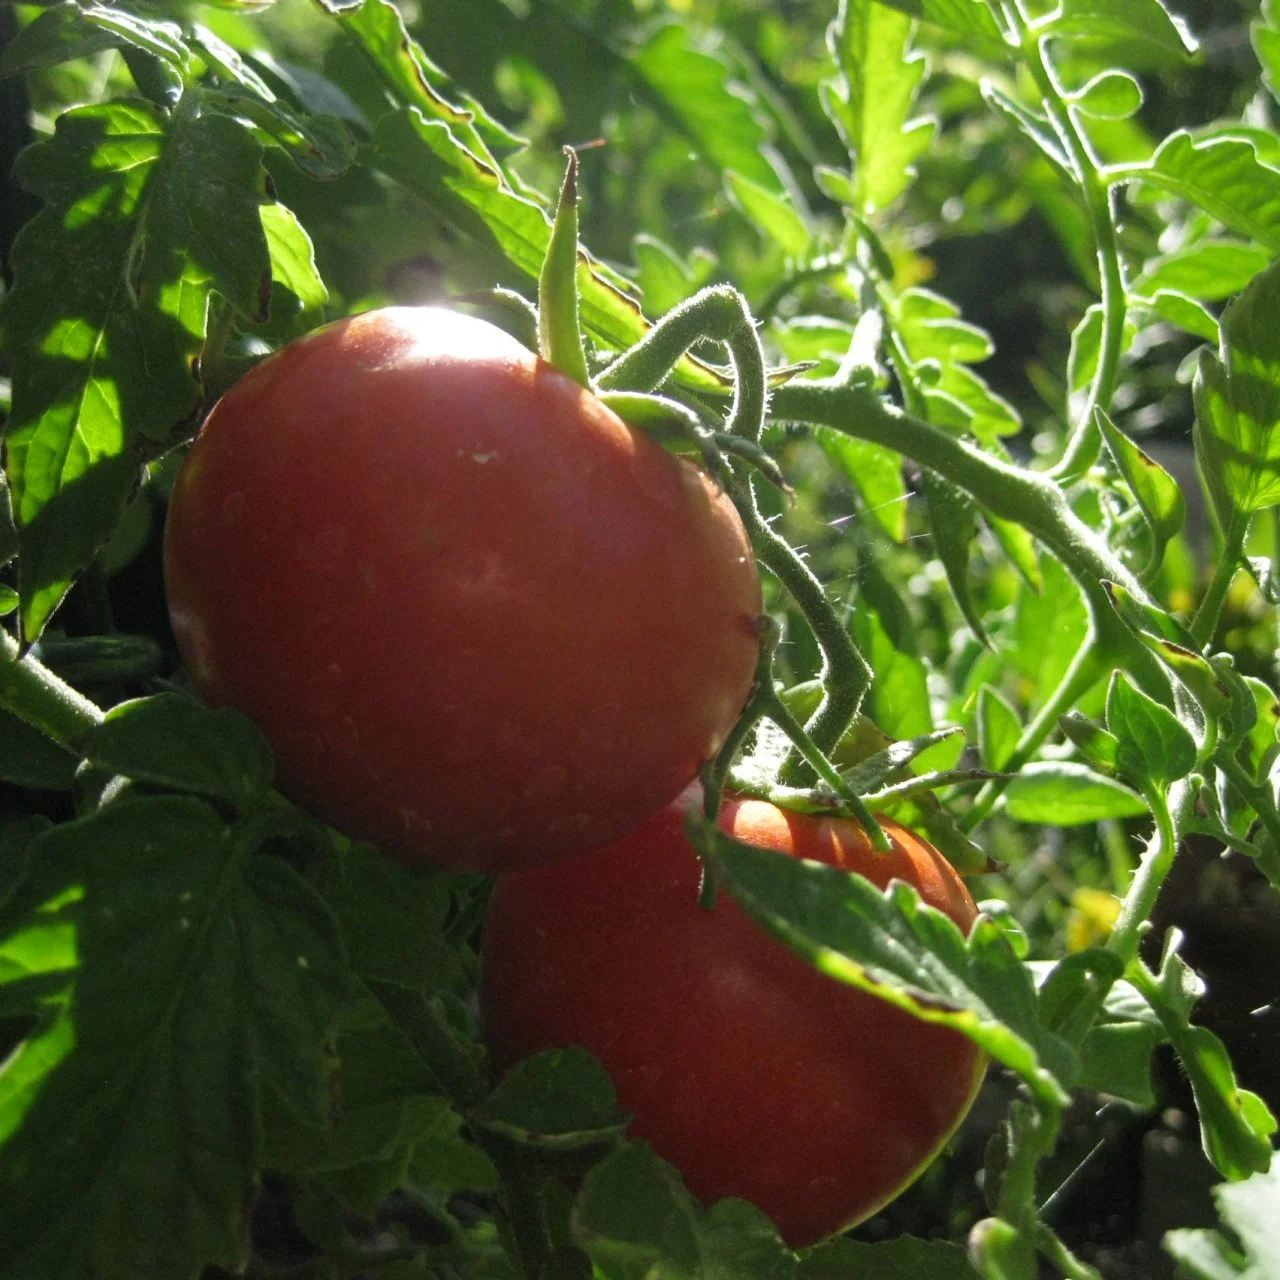tomato: (181, 185, 806, 869)
